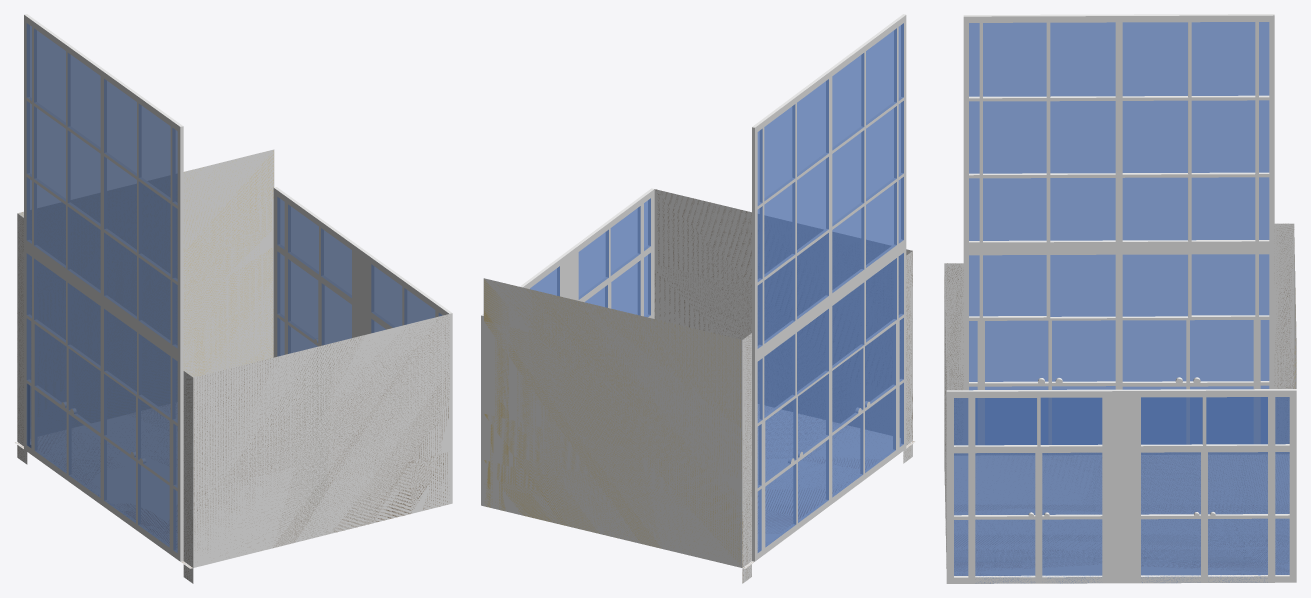
The model's file is COM023.obj.
The picture shows the model from 3 angles, left to right: view 1: azimuth 30°, elevation 25°; view 2: azimuth 150°, elevation 25°; view 3: azimuth 270°, elevation 25°; orthographic projection.
Parts seen in each view (by area): view 1: Mesh17 COM023 Model, Mesh1 puerta_grande_alta1 COM023 Model, Mesh15 puerta12_ancha1 COM023 Model; view 2: Mesh17 COM023 Model, Mesh1 puerta_grande_alta1 COM023 Model, Mesh15 puerta12_ancha1 COM023 Model; view 3: Mesh1 puerta_grande_alta1 COM023 Model, Mesh15 puerta12_ancha1 COM023 Model, Mesh17 COM023 Model.
Part boxes in pixels (box(x1,y1,x2,y2)): Mesh17 COM023 Model: box(14, 149, 449, 583); Mesh1 puerta_grande_alta1 COM023 Model: box(24, 14, 183, 561); Mesh15 puerta12_ancha1 COM023 Model: box(273, 187, 452, 503); Mesh17 COM023 Model: box(483, 189, 915, 583); Mesh1 puerta_grande_alta1 COM023 Model: box(752, 14, 906, 561); Mesh15 puerta12_ancha1 COM023 Model: box(481, 188, 654, 505); Mesh1 puerta_grande_alta1 COM023 Model: box(963, 14, 1274, 455); Mesh15 puerta12_ancha1 COM023 Model: box(946, 389, 1296, 583); Mesh17 COM023 Model: box(944, 223, 1296, 575).
Bounding box in the file's own units: 4.39 × 7.1 × 4.99.
Materials: 6 (2 with a texture image).
